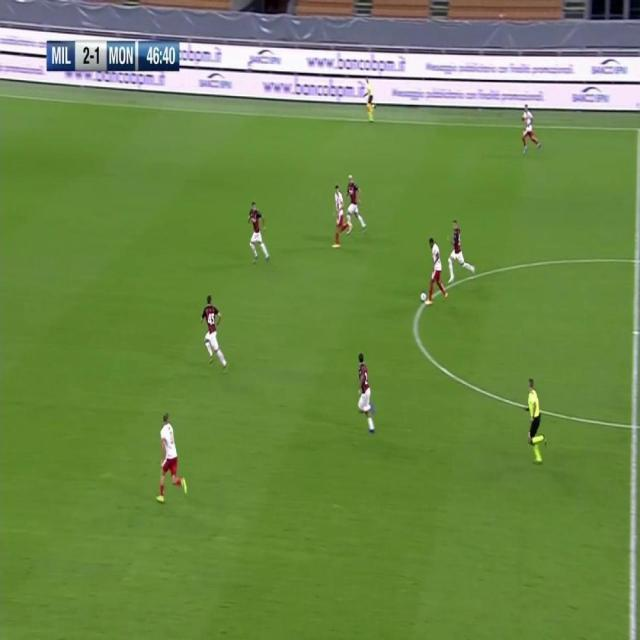ball: (420, 291, 427, 305)
player: (155, 413, 188, 506), (199, 293, 229, 371), (447, 219, 476, 283), (356, 355, 377, 435), (247, 198, 271, 265), (426, 236, 449, 303), (346, 173, 369, 234), (520, 101, 542, 156), (331, 184, 349, 248), (356, 352, 372, 394)
referee: (524, 377, 548, 465), (364, 77, 376, 125)
